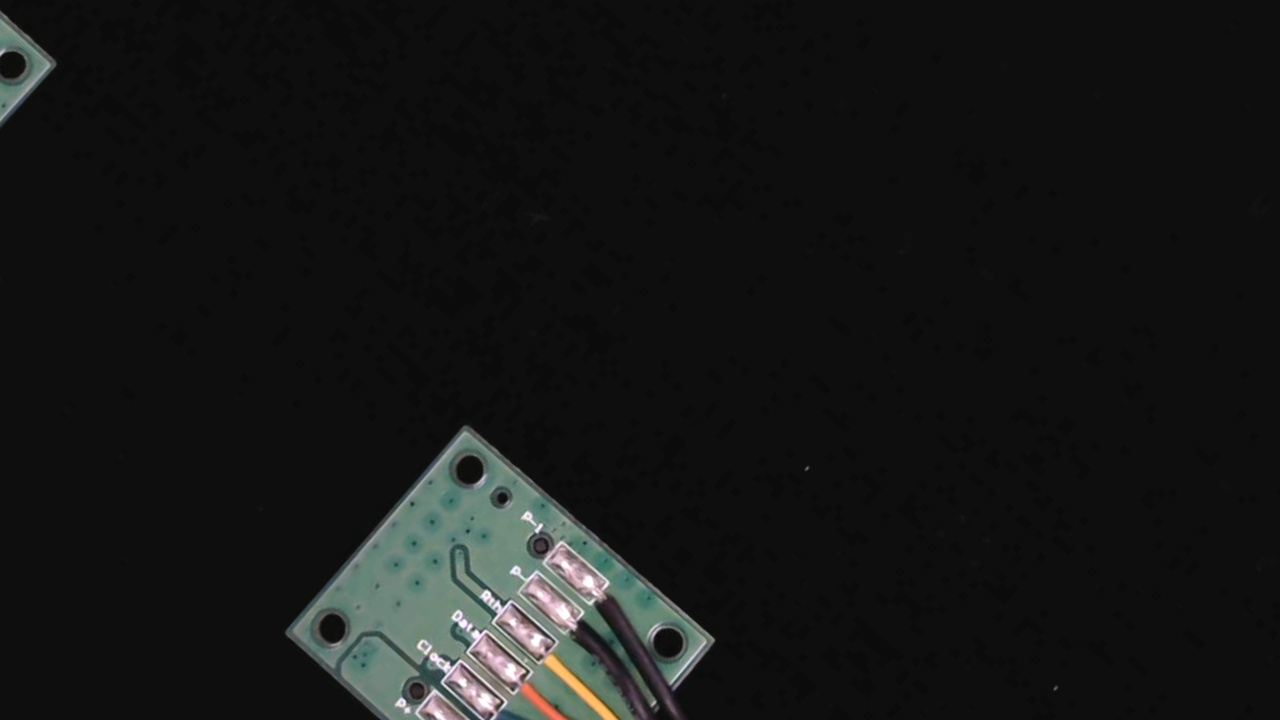Black: (549, 598, 623, 668)
Black1: (577, 571, 643, 634)
Green: (473, 690, 536, 720)
Orange: (497, 657, 565, 720)
Red: (445, 716, 517, 720)
Yellow: (523, 628, 598, 698)
